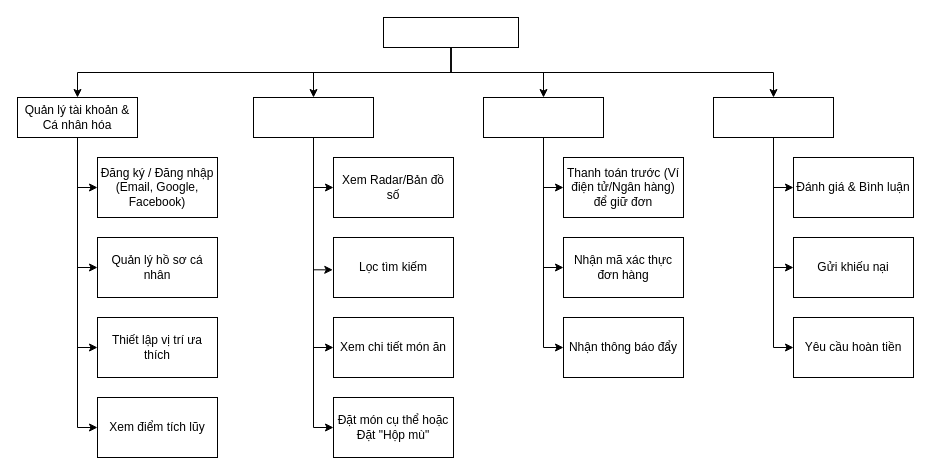
The diagram is 931 pixels wide and 475 high, and some of its shapes have lost their labels. Each missing label, with the box of its shape:
Khách hàng (Hunter): (382, 16, 518, 48)
Thanh toán & Nhận hàng: (482, 96, 604, 138)
Tìm kiếm & Đặt món: (252, 96, 374, 138)
Tương tác & Hậu mãi: (712, 96, 834, 138)
